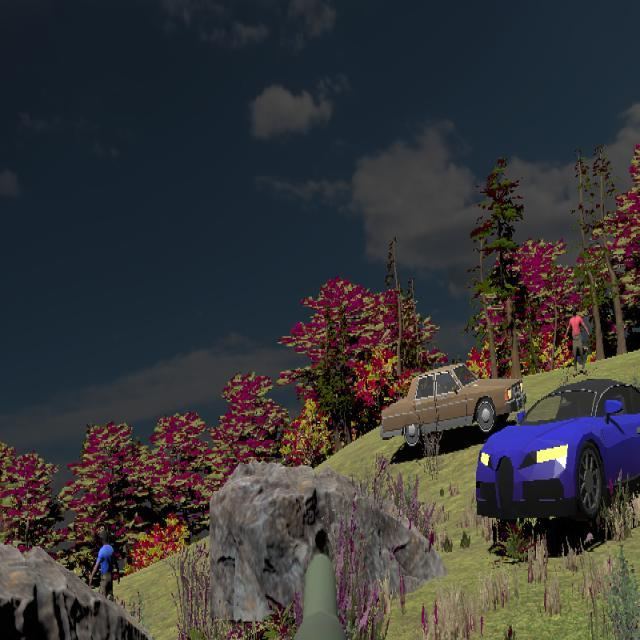Human: (90, 531, 120, 616), (564, 306, 592, 376)
car: (475, 379, 640, 524), (379, 362, 528, 447)
